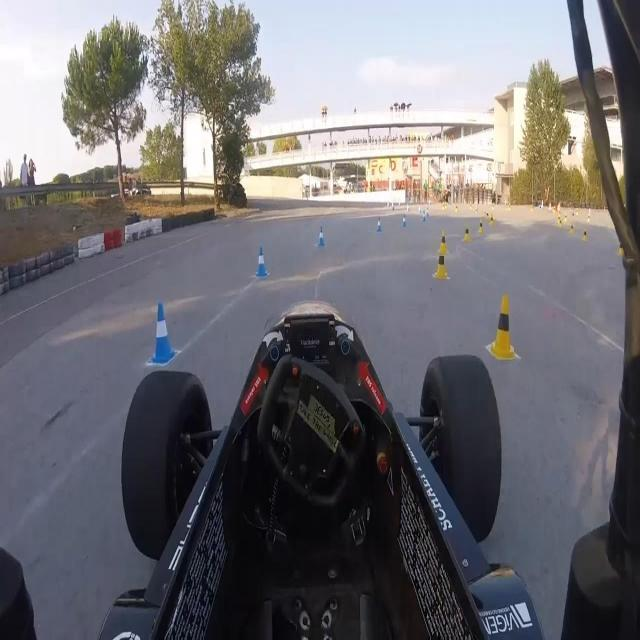blue_cone: (144, 296, 178, 371), (250, 241, 272, 284), (312, 223, 330, 255)
yellow_cone: (481, 295, 521, 370), (433, 224, 451, 273)
